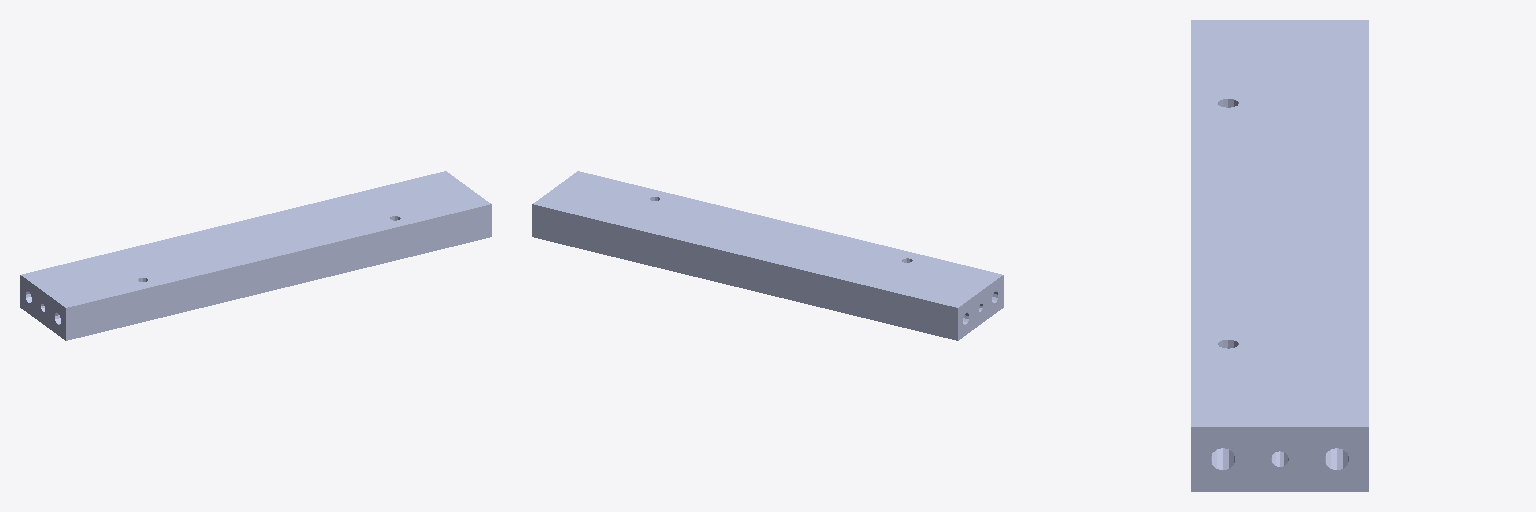
URDF robot description (chair part3.SLDPRT):
<?xml version="1.0" encoding="utf-8"?>
<!-- This URDF was automatically created by SolidWorks to URDF Exporter! Originally created by [author] ([email redacted]) 
     Commit Version: 1.5.1-0-g916b5db  Build Version: 1.5.7152.31018
     For more information, please see http://wiki.ros.org/sw_urdf_exporter -->
<robot
  name="chair part3.SLDPRT">
  <link
    name="chair part3.SLDPRT">
    <inertial>
      <origin
        xyz="4.9977E-19 4.02510000000006E-05 0.01"
        rpy="-1.5707963267949 0 0" />
      <mass
        value="0.26482" />
      <inertia
        ixx="6.4143E-05"
        ixy="1.6399E-20"
        ixz="2.6682E-20"
        iyy="0.0016227"
        iyz="-3.74120000000028E-08"
        izz="0.0015765" />
    </inertial>
    <visual>
      <origin
        xyz="0 0 0"
        rpy="0 0 0" />
      <geometry>
        <mesh
          filename="package://object_description/chair_meshes/chair part3.SLDPRT.STL" />
      </geometry>
      <material
        name="">
        <color
          rgba="0.79216 0.81961 0.93333 1" />
        <texture
          filename="package://object_description/textures/" />
      </material>
    </visual>
    <collision>
      <origin
        xyz="0 0 0"
        rpy="0 0 0" />
      <geometry>
        <mesh
          filename="package://object_description/chair_meshes/chair part3.SLDPRT.STL" />
      </geometry>
      <surface>
      <contact>
          <ode>
            <kp>1.0E+15</kp>
            <kd>1.0E+13</kd>
          </ode>
        </contact>
      </surface>
    </collision>
  </link>
  <gazebo reference="chair part3.SLDPRT">
    <material>Gazebo/White</material>
    <kp>100000.0</kp>
    <kd>1.0</kd>
    <mu1>100000</mu1>
    <mu2>100000</mu2>
    <maxVel>0</maxVel>
    <minDepth>0.000</minDepth>
  </gazebo>
</robot>

--- Facts derived from the render (not from the file) ---
3 views of the same robot in one strip: view 1: azimuth 30°, elevation 25°; view 2: azimuth 150°, elevation 25°; view 3: azimuth 270°, elevation 25° (orthographic).
Robot: chair part3.SLDPRT — 1 links, 0 joints (none); root link chair part3.SLDPRT; default pose: every joint at zero.
Visible links, largest first — view 1: chair part3.SLDPRT; view 2: chair part3.SLDPRT; view 3: chair part3.SLDPRT.
Link boxes in pixels (x1,y1,x2,y2): chair part3.SLDPRT: (20,171,491,340); chair part3.SLDPRT: (532,171,1003,340); chair part3.SLDPRT: (1191,20,1368,491).
Bounding box of the posed robot: 0.27 × 0.05 × 0.02 m (x, y, z).
Meshes: 1 distinct files referenced, 1 mesh visuals loaded (1 binary STL).